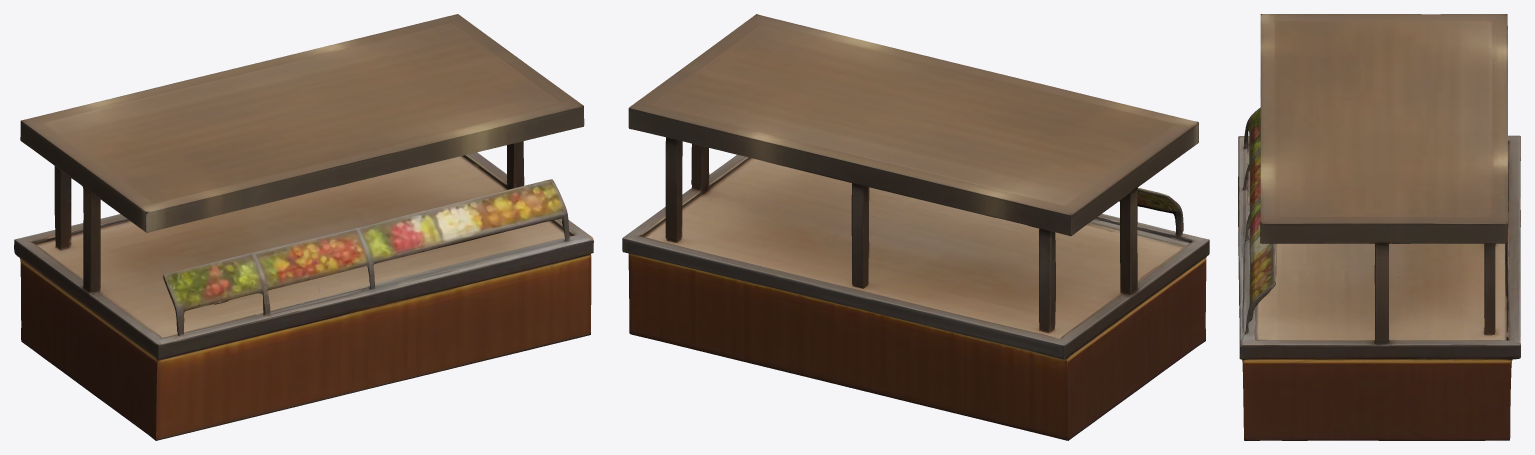
3 views of the same model, side by side, from view 1: azimuth 30°, elevation 25°; view 2: azimuth 150°, elevation 25°; view 3: azimuth 270°, elevation 25° (orthographic). The views are drawn at different scales.
Visible parts, largest first — view 1: geometry_0; view 2: geometry_0; view 3: geometry_0.
Part boxes in pixels (box(x1,y1,x2,y2)): geometry_0: box(14, 14, 593, 440); geometry_0: box(622, 14, 1209, 440); geometry_0: box(1238, 14, 1520, 440).
Size of the model in its own units: 1 by 0.4878 by 0.5713.
Materials: 1 (1 with a texture image).
